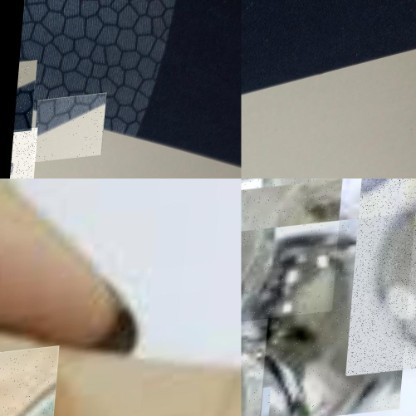ironball: (241, 217, 415, 415), (241, 178, 349, 327), (350, 178, 415, 379), (241, 320, 271, 415), (19, 383, 64, 416)
